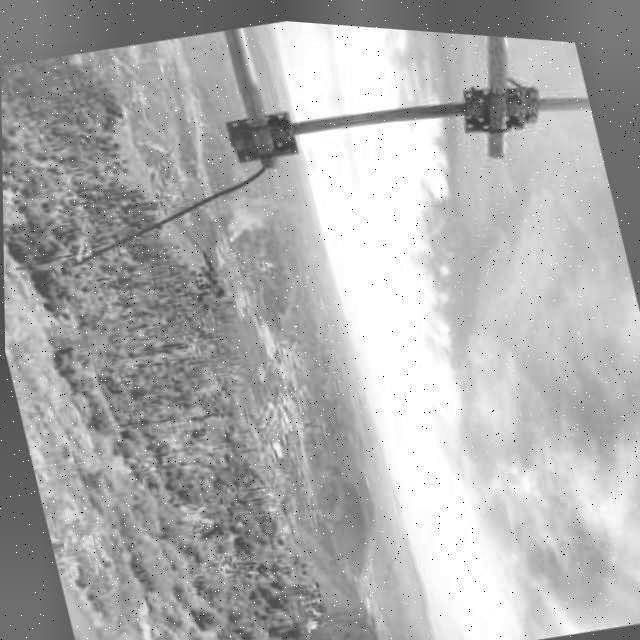Smoke: (205, 145, 327, 246)
